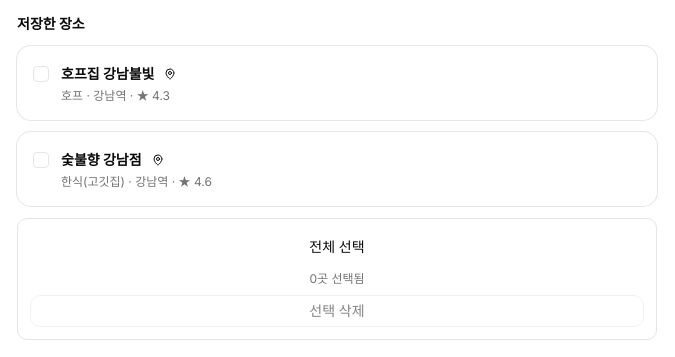
SavedList › 전체 선택 후 전체 해제 클릭 → 선택이 모두 풀린다
Step 1. Click the button "전체 선택" → (337, 247), box x1=30 y1=231 x2=644 y2=263
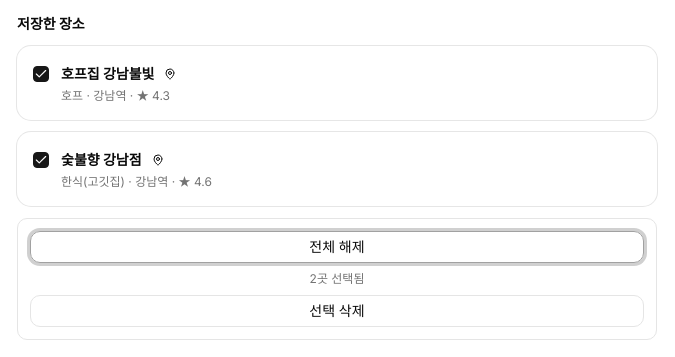
Step 2. Click the button "전체 해제" → (337, 247), box x1=30 y1=231 x2=644 y2=263
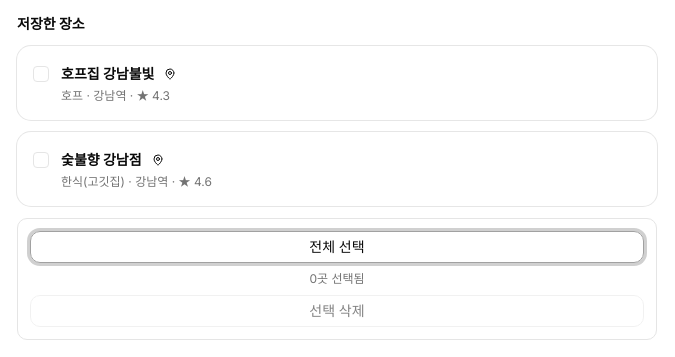
Check: the text "0곳 선택됨" is shown, box x1=309 y1=271 x2=364 y2=287
Check: the checkbox named "호프집 강남불빛 선택" is not checked, box x1=33 y1=66 x2=49 y2=82
Check: the checkbox named "숯불향 강남점 선택" is not checked, box x1=33 y1=152 x2=49 y2=168
